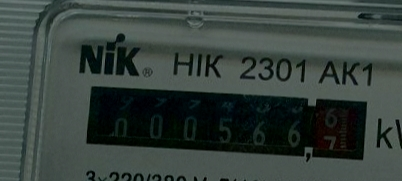0: (179, 113, 198, 143), (145, 110, 163, 140), (109, 113, 129, 137)
5: (214, 115, 233, 145)
6: (283, 116, 303, 148), (247, 117, 267, 146), (322, 105, 339, 131)
7: (319, 133, 336, 152)
9: (114, 91, 133, 112)
screen: (75, 77, 372, 169)
